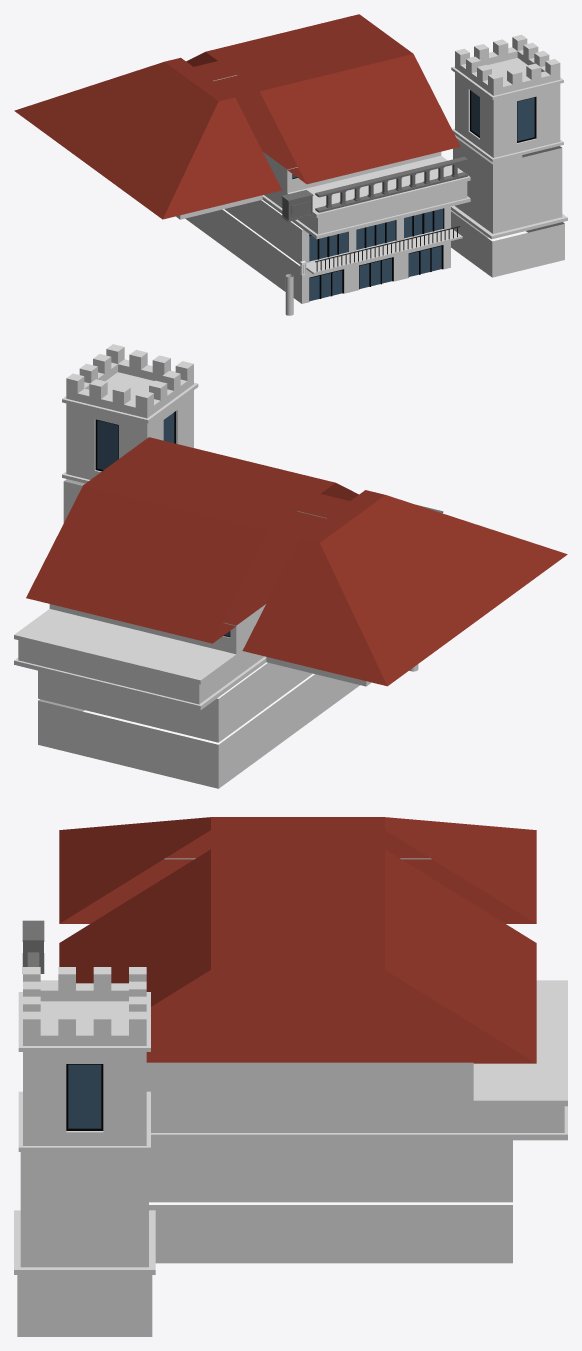
The model's file is Palace.fbx.
3 views of the same model, one above another, from view 1: azimuth 30°, elevation 25°; view 2: azimuth 150°, elevation 25°; view 3: azimuth 270°, elevation 25° (orthographic). The views are drawn at different scales.
Parts seen in each view (by area): view 1: Palace_Roof_Roof1, Palace_Roof_Roof2, Palace _Tower_2, Palace_Roof_Under, Palace_Base_Main, Palace _Tower_3, Palace _Tower_1, Palace _Tower_Box, Palace_Floor_Main, Palace_Roof_Rails, Palace_Floor_Windows, Palace_Base_Windows (+10 smaller); view 2: Palace_Roof_Roof1, Palace_Roof_Roof2, Palace_Roof_Under, Palace_Base_Main, Palace_Floor_Main, Palace _Tower_Box, Palace _Tower_3, Palace_Roof_Main1, Palace _Tower_3Under, Palace _Tower_Windows, Palace_Roof_Main2; view 3: Palace_Roof_Roof1, Palace_Roof_Roof2, Palace_Roof_Under, Palace_Base_Main, Palace_Floor_Main, Palace _Tower_2, Palace_Roof_Main1, Palace _Tower_3, Palace _Tower_1, Palace _Tower_Box, Palace _Tower_3Under, Palace _Tower_Windows (+2 smaller).
Boxes of the visible parts, box(x1,y1,x2,y2) form: Palace_Roof_Roof1: box(186, 14, 460, 184); Palace_Roof_Roof2: box(14, 57, 281, 219); Palace _Tower_2: box(453, 135, 562, 233); Palace_Roof_Under: box(262, 156, 470, 239); Palace_Base_Main: box(185, 209, 450, 303); Palace _Tower_3: box(455, 73, 560, 157); Palace _Tower_1: box(451, 210, 564, 277); Palace _Tower_Box: box(455, 34, 560, 95); Palace_Floor_Main: box(224, 200, 450, 264); Palace_Roof_Rails: box(315, 156, 467, 212); Palace_Floor_Windows: box(309, 208, 443, 261); Palace_Base_Windows: box(309, 246, 441, 300); Palace_Roof_Roof1: box(26, 437, 358, 643); Palace_Roof_Roof2: box(242, 490, 567, 686); Palace_Roof_Under: box(14, 609, 266, 710); Palace_Base_Main: box(38, 674, 359, 788); Palace_Floor_Main: box(38, 662, 312, 742); Palace _Tower_Box: box(66, 344, 193, 418); Palace _Tower_3: box(66, 390, 193, 479); Palace_Roof_Main1: box(49, 511, 326, 654); Palace _Tower_3Under: box(62, 372, 198, 483); Palace _Tower_Windows: box(97, 412, 174, 469); Palace_Roof_Main2: box(266, 657, 371, 686); Palace_Roof_Roof1: box(59, 849, 536, 1063); Palace_Roof_Roof2: box(59, 817, 536, 923); Palace_Roof_Under: box(40, 980, 567, 1140); Palace_Base_Main: box(149, 1140, 512, 1263); Palace_Floor_Main: box(149, 1144, 512, 1202); Palace _Tower_2: box(20, 1152, 148, 1267); Palace_Roof_Main1: box(146, 1062, 473, 1101); Palace _Tower_3: box(23, 1052, 146, 1145); Palace _Tower_1: box(17, 1275, 152, 1336); Palace _Tower_Box: box(23, 967, 146, 1045); Palace _Tower_3Under: box(18, 992, 150, 1151); Palace _Tower_Windows: box(68, 1064, 101, 1128).
Bounding box in the file's own units: 3943 × 1893 × 3014.
